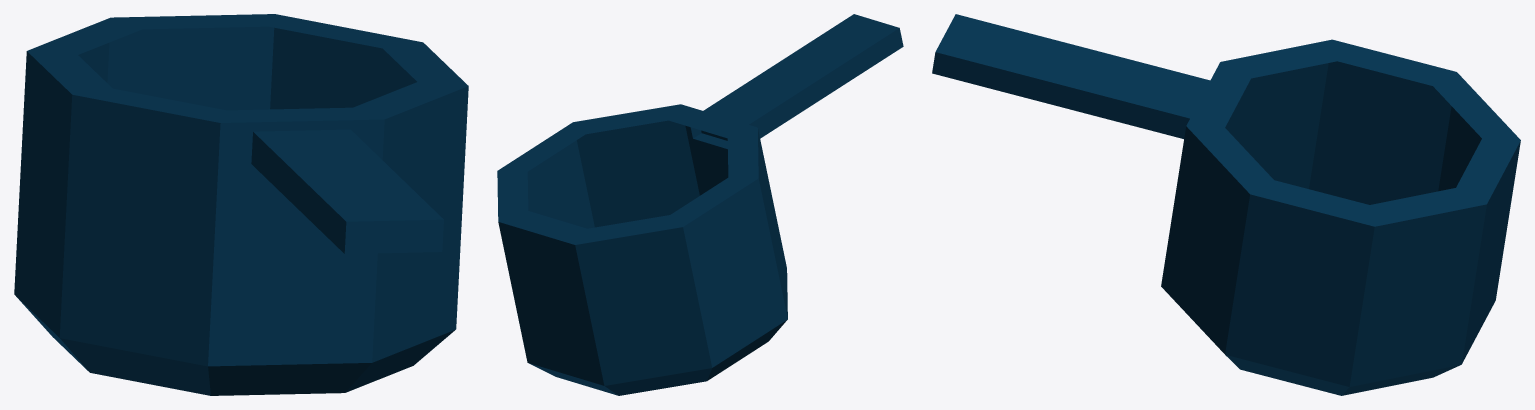
The model's file is KITCHEN INVENTORY 8.fbx.
3 renders of one model, left to right at view 1: azimuth 30°, elevation 25°; view 2: azimuth 150°, elevation 25°; view 3: azimuth 270°, elevation 25°, orthographic. The views are drawn at different scales.
Parts seen in each view (by area): view 1: KITCHEN_INVENTORY_8; view 2: KITCHEN_INVENTORY_8; view 3: KITCHEN_INVENTORY_8.
Part boxes in pixels (x1=…): KITCHEN_INVENTORY_8: x1=14, y1=14, x2=468, y2=395; KITCHEN_INVENTORY_8: x1=497, y1=14, x2=903, y2=395; KITCHEN_INVENTORY_8: x1=932, y1=14, x2=1520, y2=395.
Size of the model in its own units: 24.38 by 21.03 by 39.94.
Materials: 1 (1 with a texture image).
